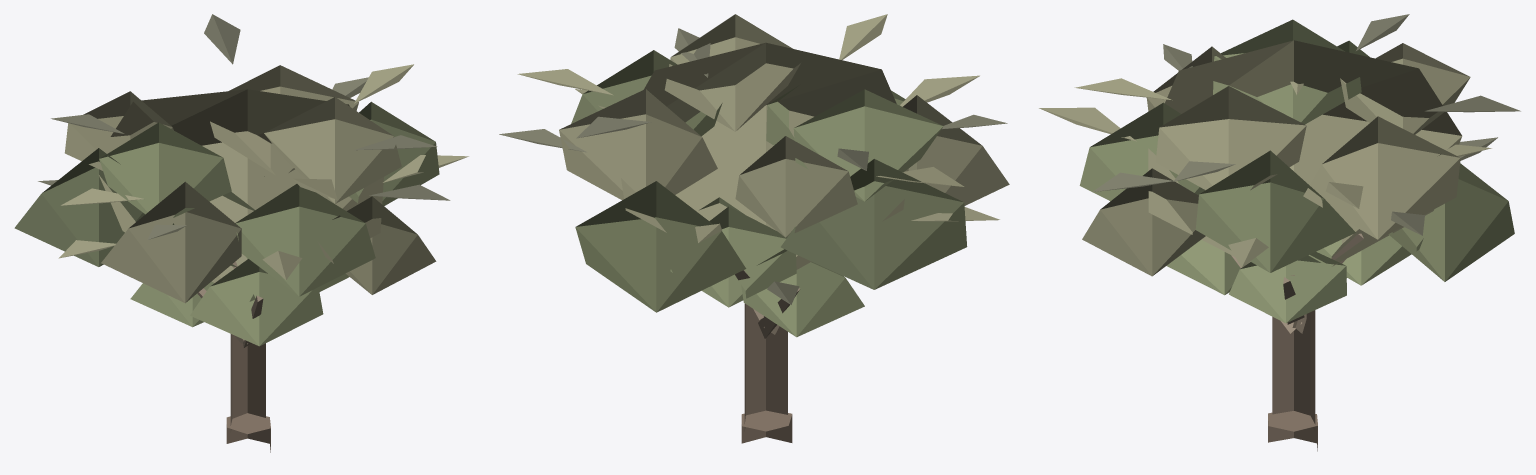
Rendered from shu.fenghuang@subadult__winter.glb.
3 views of the same model, side by side, from view 1: azimuth 30°, elevation 25°; view 2: azimuth 150°, elevation 25°; view 3: azimuth 270°, elevation 25° (orthographic). The views are drawn at different scales.
Visible parts, largest first — view 1: shu.fenghuang@subadult__winter; view 2: shu.fenghuang@subadult__winter; view 3: shu.fenghuang@subadult__winter.
Part boxes in pixels (bbox=[...]): shu.fenghuang@subadult__winter: bbox=[14, 14, 468, 452]; shu.fenghuang@subadult__winter: bbox=[499, 14, 1009, 443]; shu.fenghuang@subadult__winter: bbox=[1039, 14, 1520, 451].
Size of the model in its own units: 7.83 by 6.64 by 7.39.
